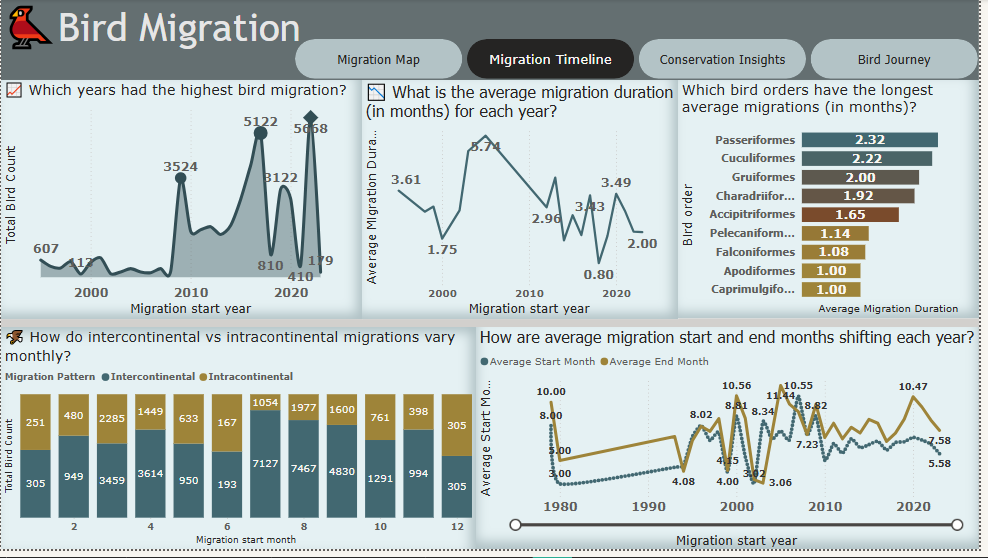

What the dashboard file says about the page in this screenshot:
{"tool":"powerbi","page":{"name":" Migration Timeline","canvas":[1280,720],"ordinal":1},"visuals":[{"type":"textbox","title":"🐦Bird Migration","box":[0,0,1280,105.8],"z":0},{"type":"lineChart","title":"📈 Which years had the highest bird migration?","fields":{"Category":["Bird migration dataset2.Migration start year"],"Y":["CountNonNull(Bird migration dataset2.ID)"]},"box":[0,106,472.6,312.9],"z":1000},{"type":"lineChart","title":"📉 What is the average migration duration (in months) for each year?","fields":{"Category":["Bird migration dataset2.Migration start year"],"Y":["Avg(Bird migration dataset2.Total_migration_date)"]},"box":[472.6,106,413.7,312.9],"z":2000},{"type":"hundredPercentStackedColumnChart","title":"🦅 How do intercontinental vs intracontinental migrations vary monthly?","fields":{"Category":["Bird migration dataset2.Migration start month"],"Y":["CountNonNull(Bird migration dataset2.ID)"],"Series":["Bird migration dataset2.Migration_pattern"]},"box":[0,429.4,621.8,290.6],"z":3000},{"type":"lineChart","title":"How are average migration start and end months shifting each year?","fields":{"Category":["Bird migration dataset2.Migration start year"],"Y":["Avg(Bird migration dataset2.Migration start month)","Avg(Bird migration dataset2.Migration end month)"]},"box":[621.6,429.1,658.3,290.9],"z":4000},{"type":"clusteredBarChart","title":"Which bird orders have the longest average migrations (in months)?","fields":{"Y":["Avg(Bird migration dataset2.Total_migration_date)"],"Category":["Bird migration dataset2.Bird orders","Bird migration dataset2.Bird species"]},"box":[886.4,106,393.6,312.4],"z":5000},{"type":"pageNavigator","box":[385,52.9,894.9,52.9],"z":6000}]}

Visuals, with their boxes in screenshot pixels (x1, y1, x2, y2), scaled from the page's 1280x720 canvas onto the 988x558 screenshot:
"🐦Bird Migration" textbox: <bbox>0, 0, 987, 82</bbox>
"📈 Which years had the highest bird migration?" lineChart: <bbox>0, 82, 365, 325</bbox>
"📉 What is the average migration duration (in months) for each year?" lineChart: <bbox>365, 82, 684, 325</bbox>
"🦅 How do intercontinental vs intracontinental migrations vary monthly?" hundredPercentStackedColumnChart: <bbox>0, 333, 480, 557</bbox>
"How are average migration start and end months shifting each year?" lineChart: <bbox>480, 333, 987, 557</bbox>
"Which bird orders have the longest average migrations (in months)?" clusteredBarChart: <bbox>684, 82, 987, 324</bbox>
pageNavigator: <bbox>297, 41, 987, 82</bbox>
